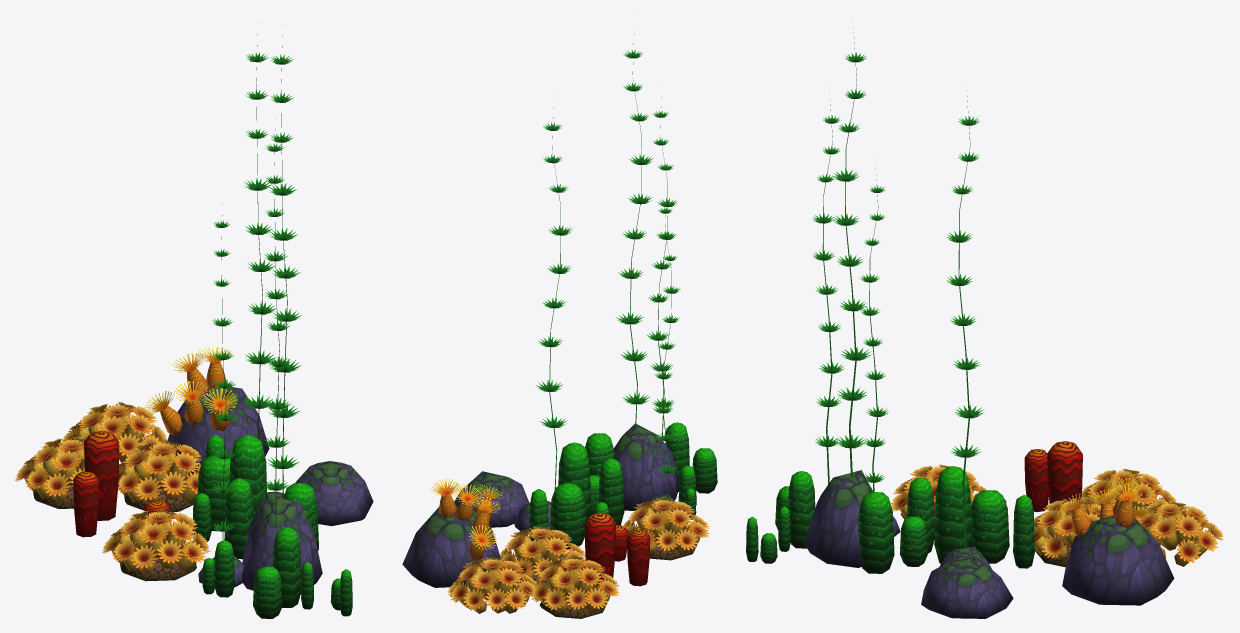
Rendered from CoralSet_09.FBX.
3 renders of one model, left to right at view 1: azimuth 30°, elevation 25°; view 2: azimuth 150°, elevation 25°; view 3: azimuth 270°, elevation 25°, orthographic. The views are drawn at different scales.
Visible parts, largest first — view 1: Line262, Line232, CoralSet_09, Plane341, Sphere059, Line242, Sphere064; view 2: Line262, CoralSet_09, Line232, Plane341, Sphere059, Line242, Sphere064; view 3: CoralSet_09, Line232, Line262, Plane341, Sphere059, Line242.
Part boxes in pixels (bbox=[...]): Line262: bbox=[15, 402, 210, 573]; Line232: bbox=[192, 435, 352, 618]; CoralSet_09: bbox=[167, 387, 373, 594]; Plane341: bbox=[211, 23, 301, 540]; Sphere059: bbox=[73, 431, 170, 537]; Line242: bbox=[145, 347, 236, 435]; Sphere064: bbox=[33, 477, 196, 581]; Line262: bbox=[448, 498, 709, 613]; CoralSet_09: bbox=[402, 423, 679, 587]; Line232: bbox=[529, 422, 717, 549]; Plane341: bbox=[536, 24, 680, 496]; Sphere059: bbox=[584, 512, 649, 586]; Line242: bbox=[429, 478, 503, 560]; Sphere064: bbox=[516, 528, 697, 618]; CoralSet_09: bbox=[803, 470, 1174, 618]; Line232: bbox=[746, 466, 1034, 573]; Line262: bbox=[891, 464, 1223, 566]; Plane341: bbox=[812, 22, 984, 547]; Sphere059: bbox=[1004, 441, 1082, 511]; Line242: bbox=[1059, 477, 1154, 536].
Size of the model in its own units: 8734 by 17344 by 13930.
